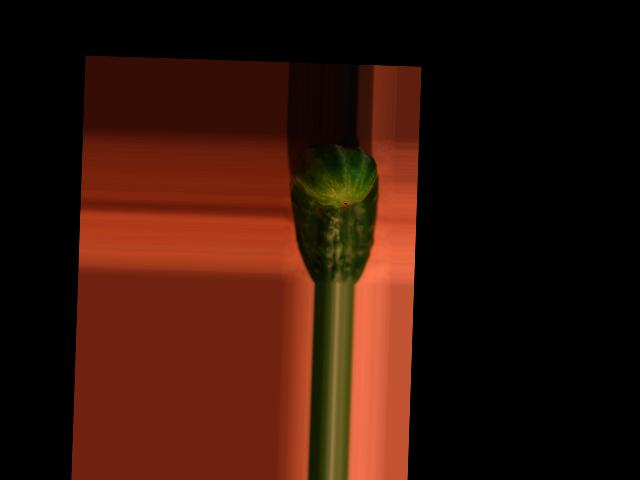cucumber: (287, 143, 380, 285)
